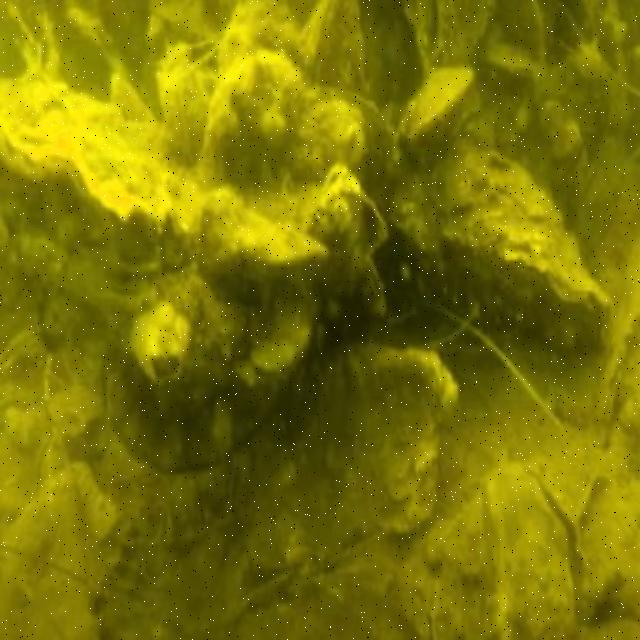Oyster-Closed: (0, 70, 325, 280), (413, 141, 609, 332), (341, 341, 457, 520), (0, 468, 116, 638), (293, 0, 368, 92), (397, 59, 467, 124)
Oyster-Open: (429, 459, 588, 638)
